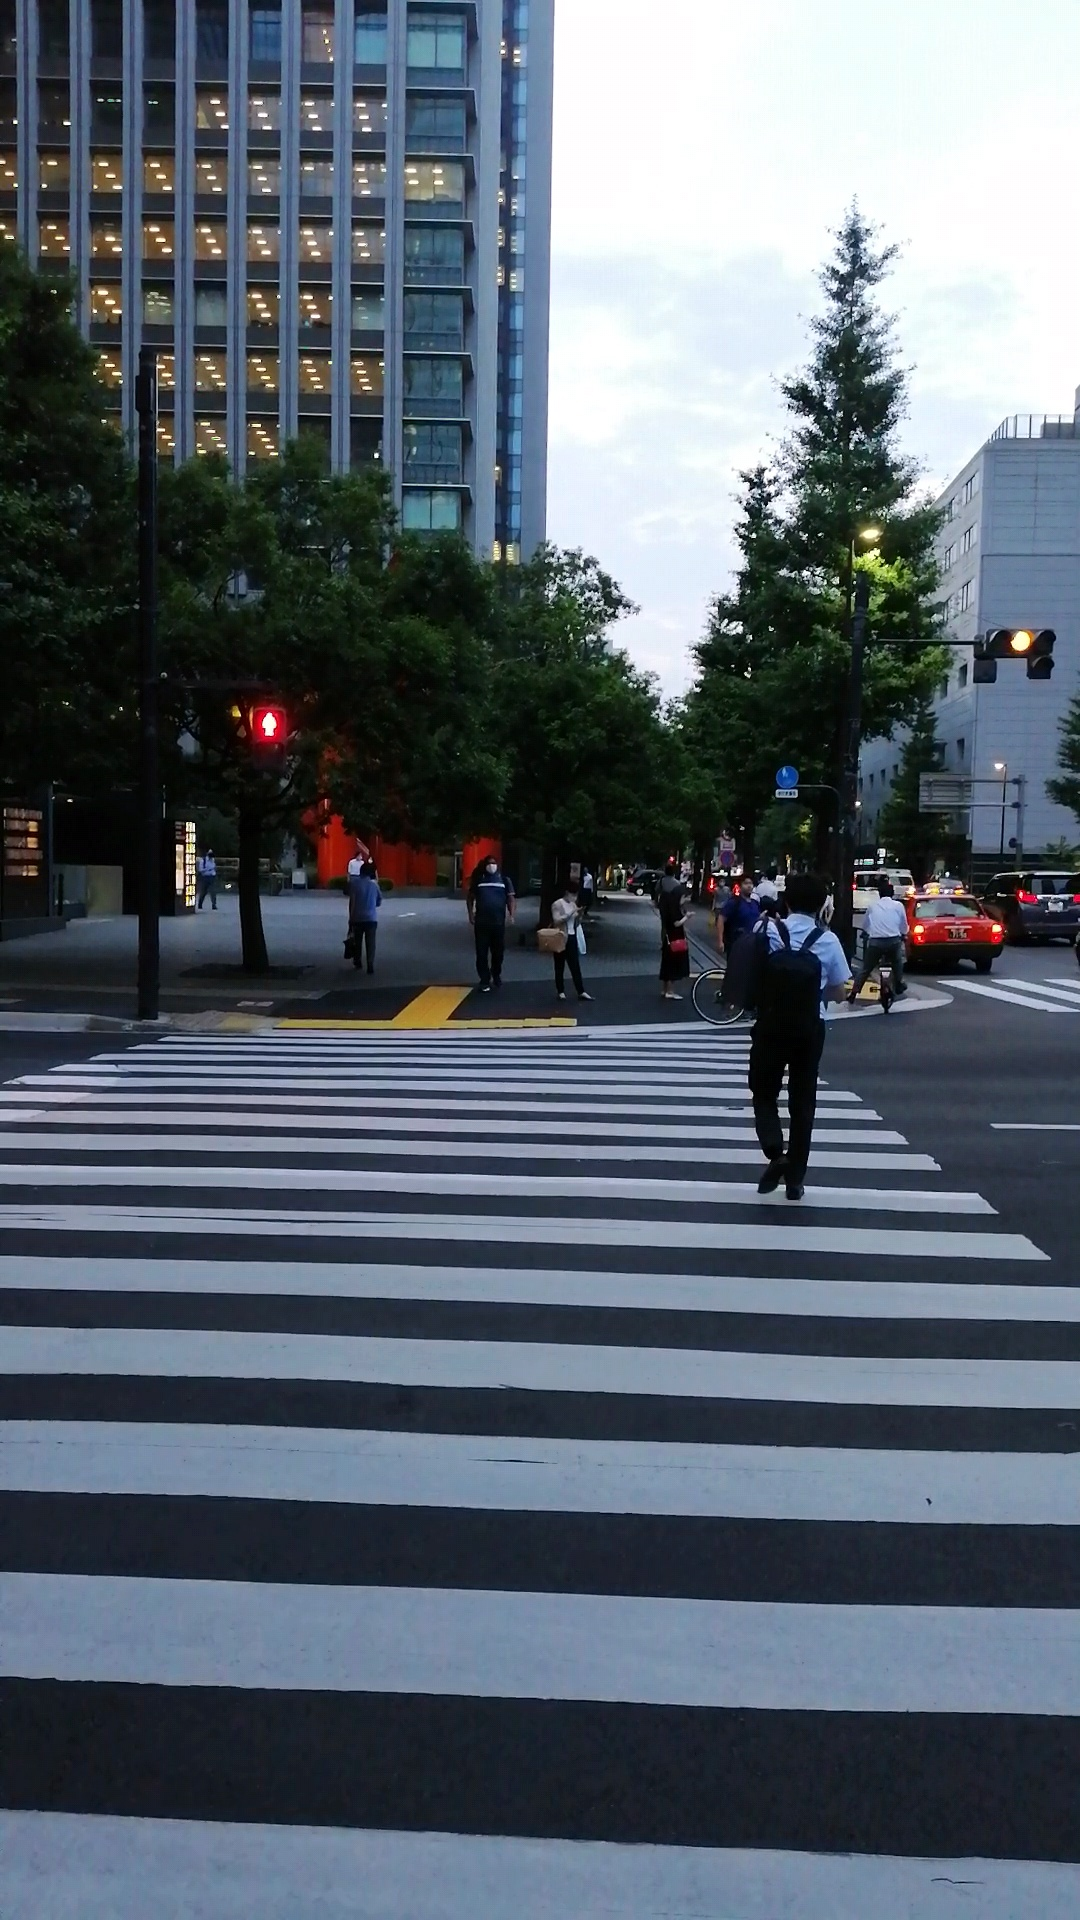red: (251, 703, 286, 775)
